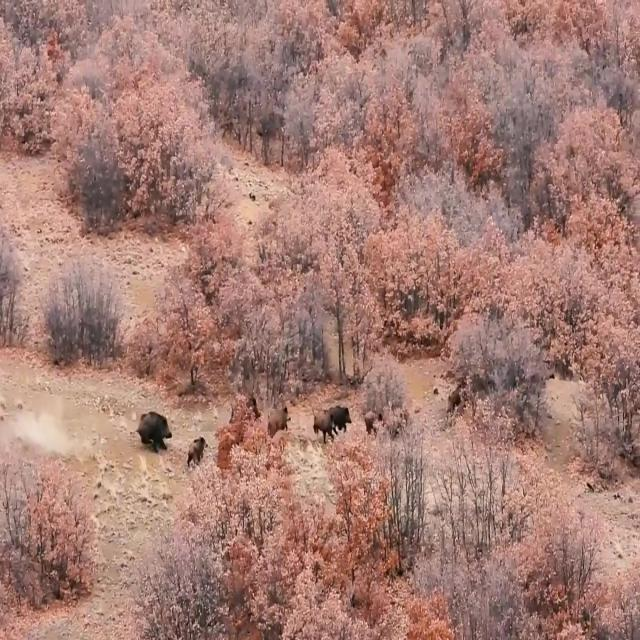pig: (129, 390, 171, 465), (298, 396, 338, 449), (180, 415, 211, 476), (260, 394, 294, 448), (329, 397, 356, 433)
